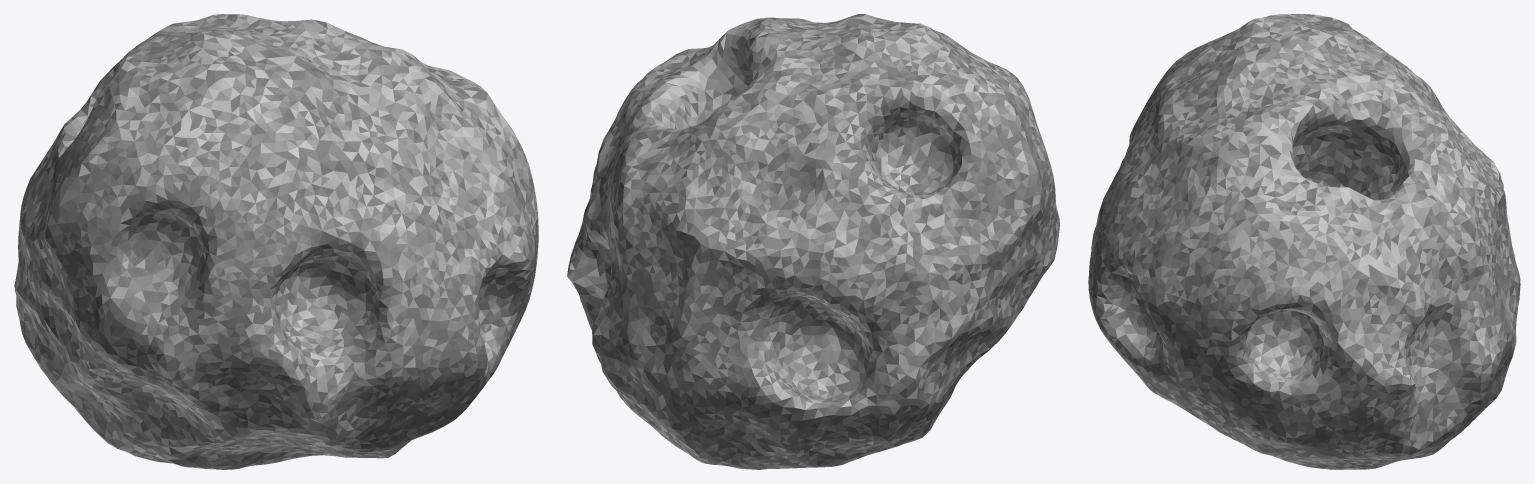
File: asteroide3.obj
3 views of the same model, side by side, from view 1: azimuth 30°, elevation 25°; view 2: azimuth 150°, elevation 25°; view 3: azimuth 270°, elevation 25° (orthographic). The views are drawn at different scales.
Parts seen in each view (by area): view 1: model_Material.003; view 2: model_Material.003; view 3: model_Material.003.
Boxes of the visible parts, x1,y1,x2,y2 form: model_Material.003: (14, 14, 538, 469); model_Material.003: (567, 14, 1059, 469); model_Material.003: (1088, 14, 1520, 469).
Size of the model in its own units: 3.2 by 2.97 by 3.02.
